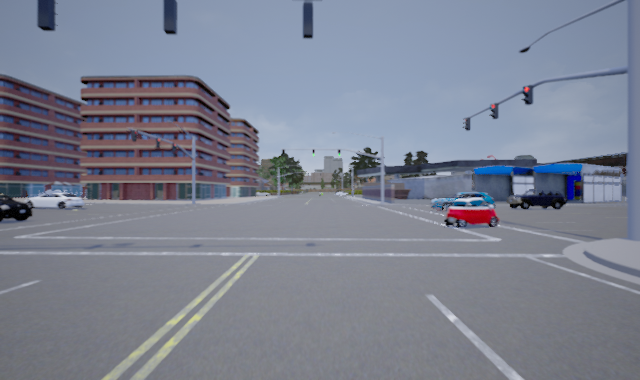vehicle: (442, 197, 502, 227), (429, 191, 499, 213), (504, 188, 568, 210), (22, 190, 83, 210), (1, 189, 31, 224)
